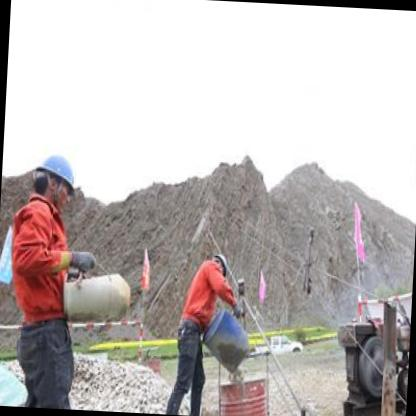bee: (32, 142, 82, 216), (210, 249, 232, 283)
